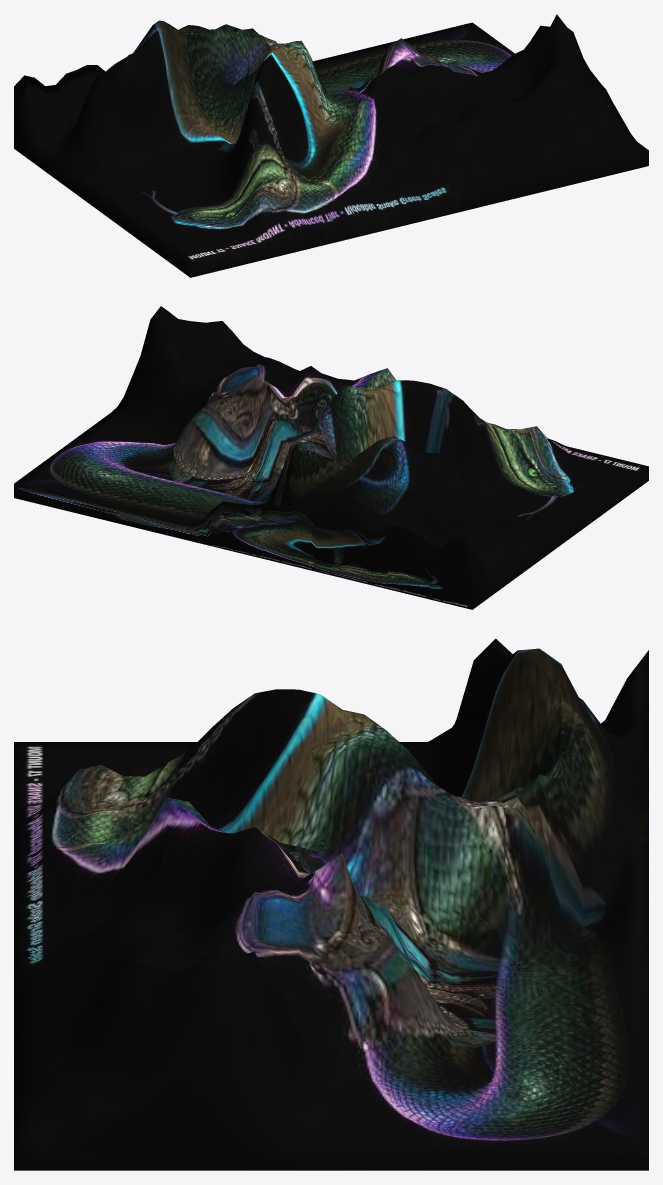
Rendered from MOUNT_17_Snake_Mount.glb.
The picture shows the model from 3 angles, top to bottom: view 1: azimuth 30°, elevation 25°; view 2: azimuth 150°, elevation 25°; view 3: azimuth 270°, elevation 25°; orthographic projection. The views are drawn at different scales.
Parts seen in each view (by area): view 1: MOUNT_17_Snake_Mount; view 2: MOUNT_17_Snake_Mount; view 3: MOUNT_17_Snake_Mount.
Boxes of the visible parts, box(x1,y1,x2,y2) form: MOUNT_17_Snake_Mount: box(14, 14, 648, 277); MOUNT_17_Snake_Mount: box(14, 306, 648, 609); MOUNT_17_Snake_Mount: box(14, 638, 648, 1170).
Bounding box in the file's own units: 2 × 0.51 × 1.33.
1 material, 1 textured.
